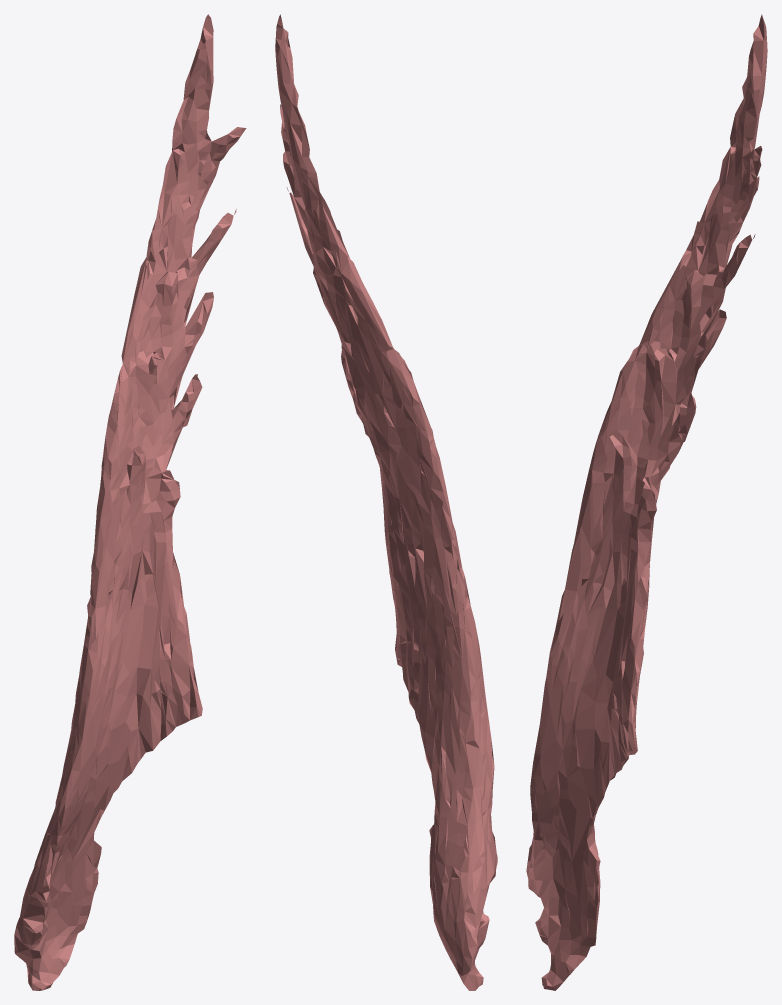
The model's file is Iliocostalis_lumborum_muscle.l.glb.
The picture shows the model from 3 angles, left to right: view 1: azimuth 30°, elevation 25°; view 2: azimuth 150°, elevation 25°; view 3: azimuth 330°, elevation 25°; orthographic projection. The views are drawn at different scales.
Visible parts, largest first — view 1: Iliocostalis_lumborum_muscle.l; view 2: Iliocostalis_lumborum_muscle.l; view 3: Iliocostalis_lumborum_muscle.l.
Part boxes in pixels (<box>): Iliocostalis_lumborum_muscle.l: <box>14,14,246,990</box>; Iliocostalis_lumborum_muscle.l: <box>275,14,497,990</box>; Iliocostalis_lumborum_muscle.l: <box>526,14,767,990</box>.
Size of the model in its own units: 0.0941 by 0.3892 by 0.0459.
